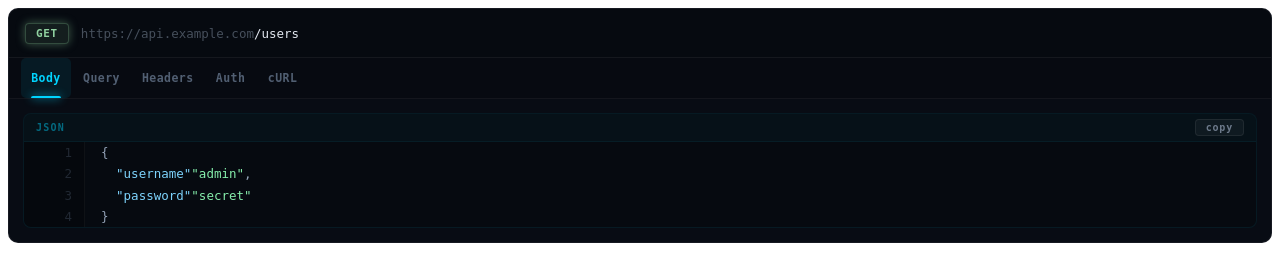
RequestPanel — empty tabs and cURL › renders cURL command in bash format
Click the button "cURL".
click(283, 78)  # box top-left (258, 58), bottom-right (308, 98)
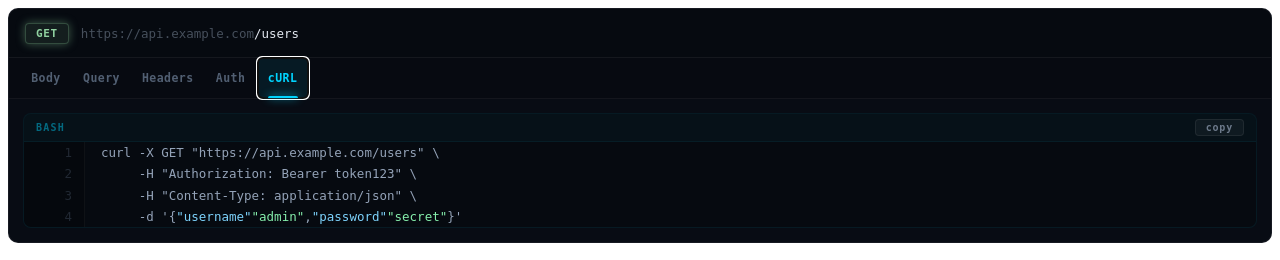
Check: the text "bash" is shown, box top-left (36, 119), bottom-right (65, 136)
Check: the text with class "format-badge" reads "bash", box top-left (36, 122), bottom-right (65, 133)
